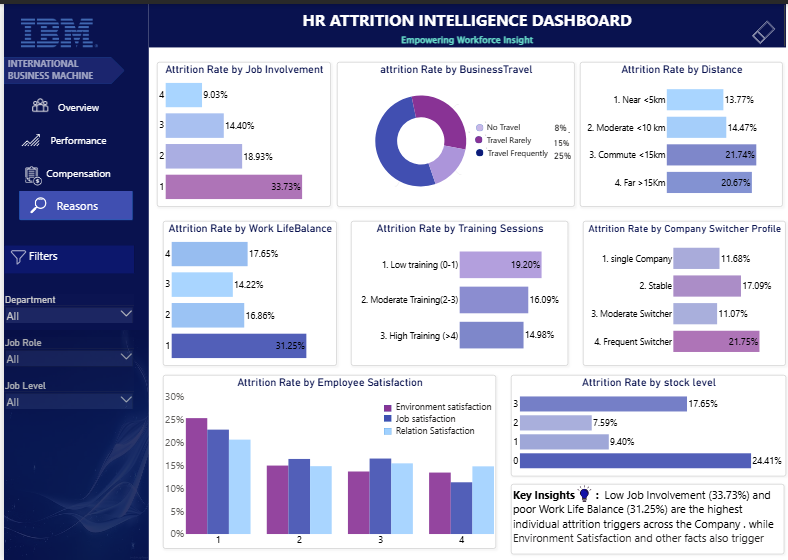

The dashboard page shown, as its layout file describes it:
{"tool":"powerbi","page":{"name":"Reasons","canvas":[5200,3700],"ordinal":3},"visuals":[{"type":"textbox","box":[10,0,280,280],"z":0},{"type":"textbox","box":[0,-40,960,3840],"z":1000},{"type":"textbox","box":[960,0,4224,288],"z":2000},{"type":"image","box":[80,0,576,384],"z":3000},{"type":"textbox","box":[18,350,672,288],"z":4000},{"type":"pageNavigator","box":[96,576,768,864],"z":5000},{"type":"image","box":[0,480,480,384],"z":6000},{"type":"textbox","box":[0,1600,864,192],"z":7000},{"type":"image","box":[0,1619,192,120],"z":8000},{"type":"slicer","title":"Department","fields":{"Values":["WA_Fn-UseC_-HR-Employee-Attrition.Department"]},"box":[0,1920,864,192],"z":9000},{"type":"slicer","title":"Job Role","fields":{"Values":["WA_Fn-UseC_-HR-Employee-Attrition.JobRole"]},"box":[0,2208,864,288],"z":10000},{"type":"slicer","title":"Job Level","fields":{"Values":["WA_Fn-UseC_-HR-Employee-Attrition.JobLevel"]},"box":[0,2496,864,192],"z":11000},{"type":"shape","box":[0,350,800,180],"z":12000},{"type":"actionButton","box":[4896,96,288,192],"z":13000},{"type":"image","box":[125,1056,140,170],"z":14000},{"type":"image","box":[35,840,288,120],"z":15000},{"type":"image","box":[163,1282,123,110],"z":16000},{"type":"barChart","title":"Attrition Rate by Distance","fields":{"Category":["WA_Fn-UseC_-HR-Employee-Attrition.Distance_group"],"Y":["All_factors_rate.attrition Rate"]},"box":[3818,384,1344,960],"z":17000},{"type":"barChart","title":"Attrition Rate by Company Switcher Profile","fields":{"Y":["All_factors_rate.attrition Rate"],"Category":["WA_Fn-UseC_-HR-Employee-Attrition.Company Switcher"]},"box":[3840,1440,1344,960],"z":18000},{"type":"barChart","title":"Attrition Rate by Training Sessions","fields":{"Y":["All_factors_rate.attrition Rate"],"Category":["WA_Fn-UseC_-HR-Employee-Attrition.Training Sessions"]},"box":[2304,1440,1440,960],"z":19000},{"type":"barChart","title":"Attrition Rate by Job Involvement","fields":{"Y":["All_factors_rate.attrition Rate"],"Category":["WA_Fn-UseC_-HR-Employee-Attrition.JobInvolvement"]},"box":[1015,384,1152,960],"z":20000},{"type":"donutChart","title":"Attrition Rate by BusinessTravel","fields":{"Category":["WA_Fn-UseC_-HR-Employee-Attrition.BusinessTravel"],"Y":["All_factors_rate.attrition Rate"]},"box":[2208,384,1576,960],"z":21000},{"type":"barChart","title":"Attrition Rate by Work LifeBalance","fields":{"Y":["All_factors_rate.attrition Rate"],"Category":["WA_Fn-UseC_-HR-Employee-Attrition.WorkLifeBalance"]},"box":[1056,1440,1152,960],"z":22000},{"type":"textbox","box":[3072,768,672,480],"z":23000},{"type":"shape","box":[3128,798,50,50],"z":24000},{"type":"shape","box":[3125,877,50,50],"z":25000},{"type":"shape","box":[3130,959,50,50],"z":26000},{"type":"card","fields":{"Values":["All_factors_rate.attrition Rate"]},"box":[3598,867,192,96],"z":27000},{"type":"card","fields":{"Values":["All_factors_rate.attrition Rate"]},"box":[3603,765,180,96],"z":28000},{"type":"card","fields":{"Values":["All_factors_rate.attrition Rate"]},"box":[3606,935,192,133],"z":29000},{"type":"clusteredColumnChart","title":"Attrition Rate by Employee Satisfaction","fields":{"Category":["Satisfaction analysis.Satisfaction level"],"Series":["Satisfaction analysis.Satisfaction"],"Y":["All_factors_rate.attrition Rate"]},"box":[1056,2458,2208,1152],"z":30000},{"type":"barChart","title":"Attrition Rate by stock level ","fields":{"Y":["All_factors_rate.attrition Rate"],"Category":["WA_Fn-UseC_-HR-Employee-Attrition.StockOptionLevel"]},"box":[3360,2458,1824,672],"z":31000},{"type":"textbox","box":[2592,2592,672,384],"z":32000},{"type":"shape","box":[2517,2812,50,45],"z":33000},{"type":"shape","box":[2517,2661,50,45],"z":34000},{"type":"shape","box":[2517,2727,50,45],"z":35000},{"type":"textbox","box":[3360,3182,1812,466],"z":36000},{"type":"image","box":[3794,3148,111,193],"z":37000},{"type":"image","box":[0,2164,960,1536],"z":38000}]}

Visuals, with their boxes on the page's 5200x3700 design canvas (x1, y1, x2, y2). These are canvas units, not pixel positions in the 788x560 screenshot, which may show the page scaled, cropped or inside an application window:
textbox: box=[10, 0, 290, 280]
textbox: box=[0, -40, 960, 3800]
textbox: box=[960, 0, 5184, 288]
image: box=[80, 0, 656, 384]
textbox: box=[18, 350, 690, 638]
pageNavigator: box=[96, 576, 864, 1440]
image: box=[0, 480, 480, 864]
textbox: box=[0, 1600, 864, 1792]
image: box=[0, 1619, 192, 1739]
"Department" slicer: box=[0, 1920, 864, 2112]
"Job Role" slicer: box=[0, 2208, 864, 2496]
"Job Level" slicer: box=[0, 2496, 864, 2688]
shape: box=[0, 350, 800, 530]
actionButton: box=[4896, 96, 5184, 288]
image: box=[125, 1056, 265, 1226]
image: box=[35, 840, 323, 960]
image: box=[163, 1282, 286, 1392]
"Attrition Rate by Distance" barChart: box=[3818, 384, 5162, 1344]
"Attrition Rate by Company Switcher Profile" barChart: box=[3840, 1440, 5184, 2400]
"Attrition Rate by Training Sessions" barChart: box=[2304, 1440, 3744, 2400]
"Attrition Rate by Job Involvement" barChart: box=[1015, 384, 2167, 1344]
"Attrition Rate by BusinessTravel" donutChart: box=[2208, 384, 3784, 1344]
"Attrition Rate by Work LifeBalance" barChart: box=[1056, 1440, 2208, 2400]
textbox: box=[3072, 768, 3744, 1248]
shape: box=[3128, 798, 3178, 848]
shape: box=[3125, 877, 3175, 927]
shape: box=[3130, 959, 3180, 1009]
card - All_factors_rate.attrition Rate: box=[3598, 867, 3790, 963]
card - All_factors_rate.attrition Rate: box=[3603, 765, 3783, 861]
card - All_factors_rate.attrition Rate: box=[3606, 935, 3798, 1068]
"Attrition Rate by Employee Satisfaction" clusteredColumnChart: box=[1056, 2458, 3264, 3610]
"Attrition Rate by stock level " barChart: box=[3360, 2458, 5184, 3130]
textbox: box=[2592, 2592, 3264, 2976]
shape: box=[2517, 2812, 2567, 2857]
shape: box=[2517, 2661, 2567, 2706]
shape: box=[2517, 2727, 2567, 2772]
textbox: box=[3360, 3182, 5172, 3648]
image: box=[3794, 3148, 3905, 3341]
image: box=[0, 2164, 960, 3700]
